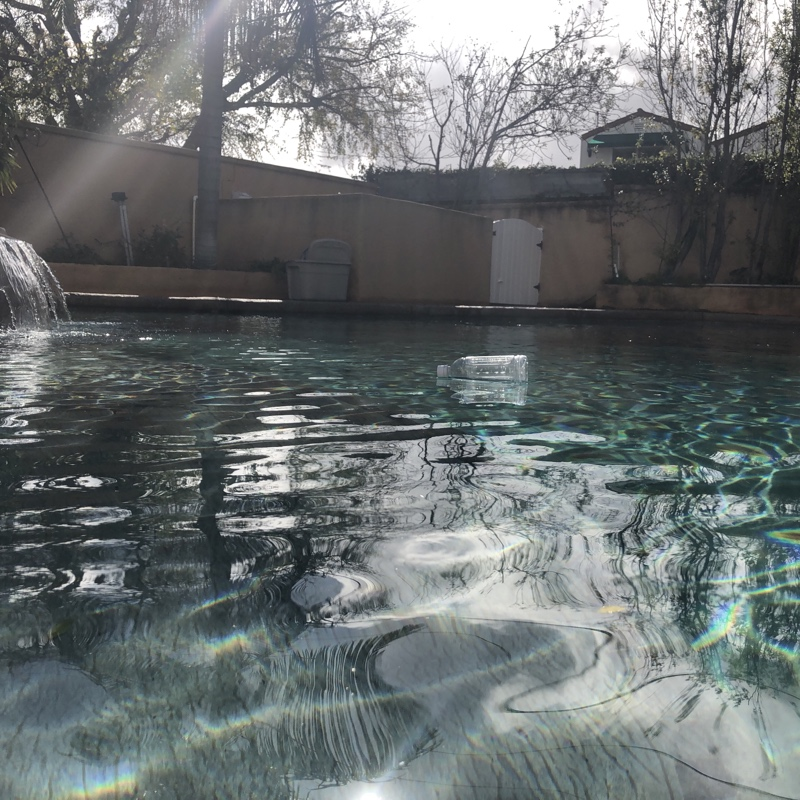Plastic Bottle: (435, 350, 534, 387)
